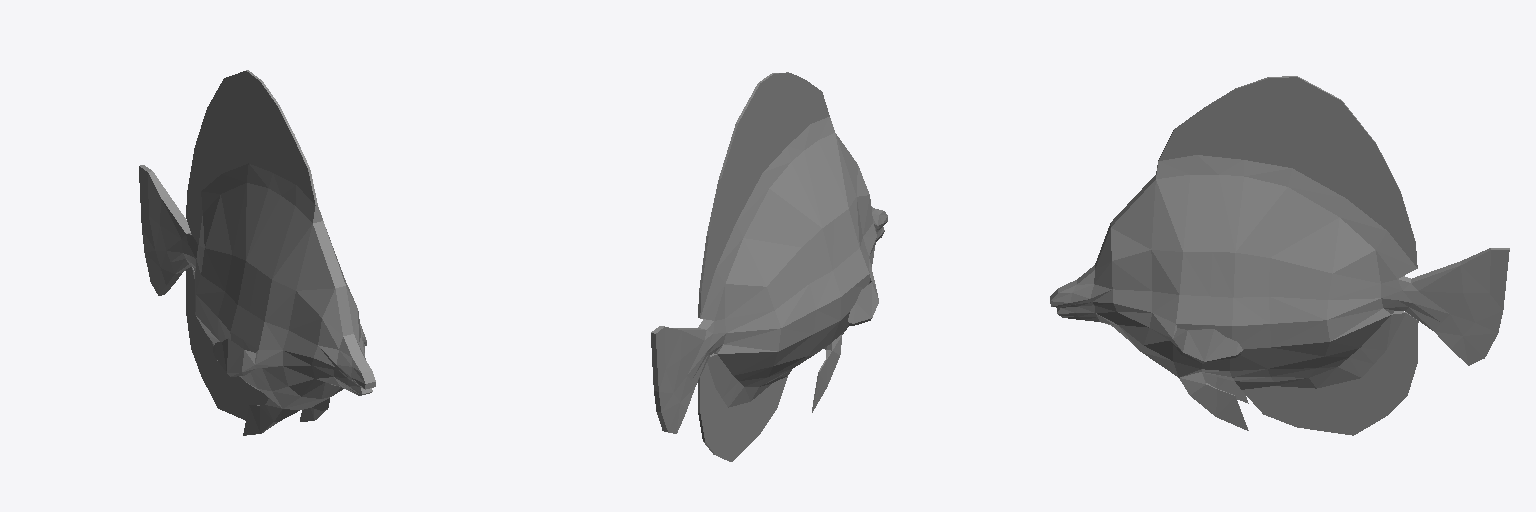
The model's file is TropicalFish05.obj.
The picture shows the model from 3 angles: view 1: azimuth 30°, elevation 25°; view 2: azimuth 150°, elevation 25°; view 3: azimuth 270°, elevation 25°; orthographic projection.
Visible parts, largest first — view 1: TropicalFish05; view 2: TropicalFish05; view 3: TropicalFish05.
Part boxes in pixels (bbox=[...]): TropicalFish05: bbox=[139, 70, 375, 435]; TropicalFish05: bbox=[651, 72, 887, 461]; TropicalFish05: bbox=[1050, 76, 1509, 435].
Size of the model in its own units: 1.8 by 4.61 by 5.35.